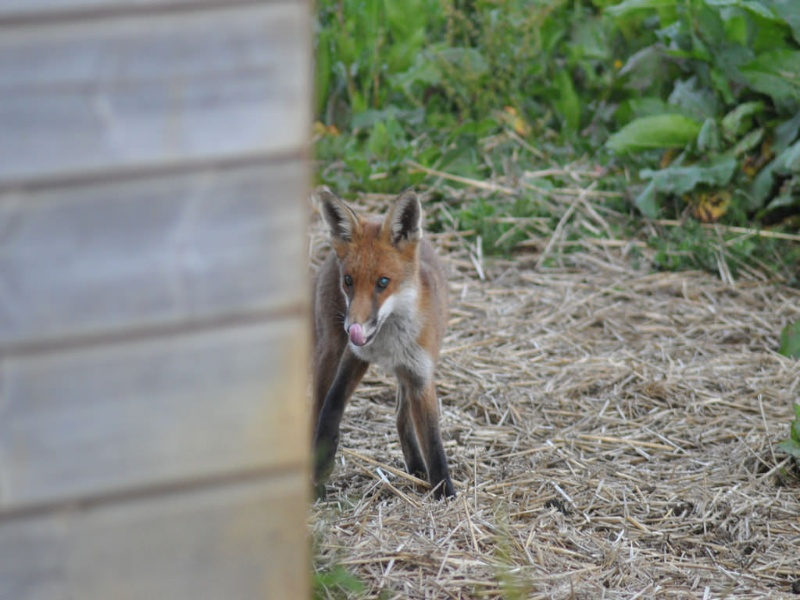fox: (302, 180, 462, 503)
